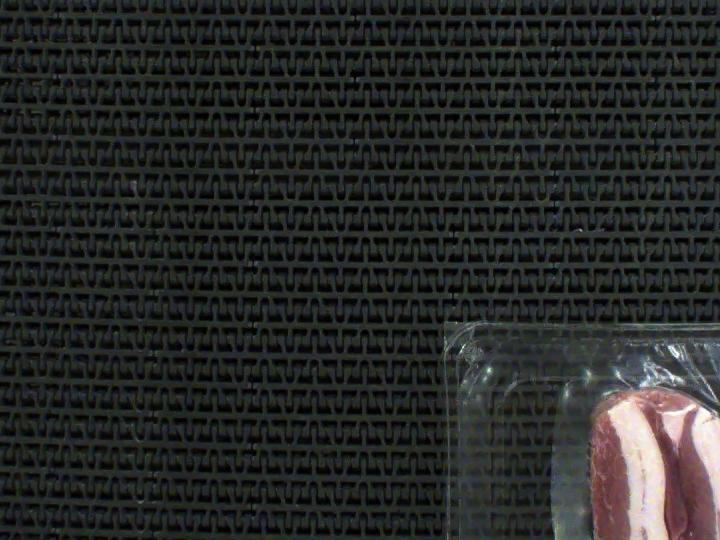unsealed: (561, 325, 720, 540)
